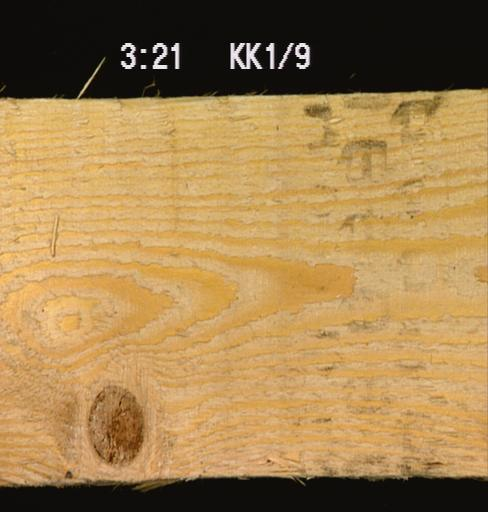sound_knot: (84, 382, 145, 467)
